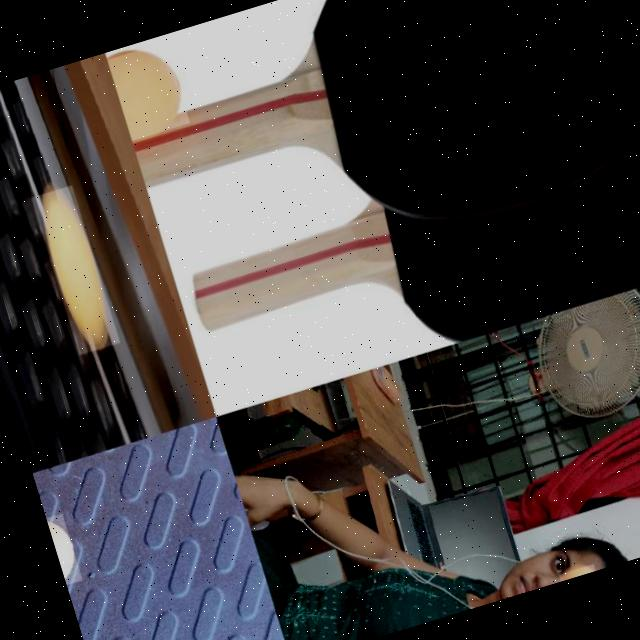ping-pong-ball: (30, 182, 120, 354), (107, 38, 190, 139), (46, 509, 82, 584), (556, 560, 596, 582)
